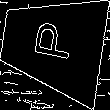P_W: (29, 22, 77, 68)
